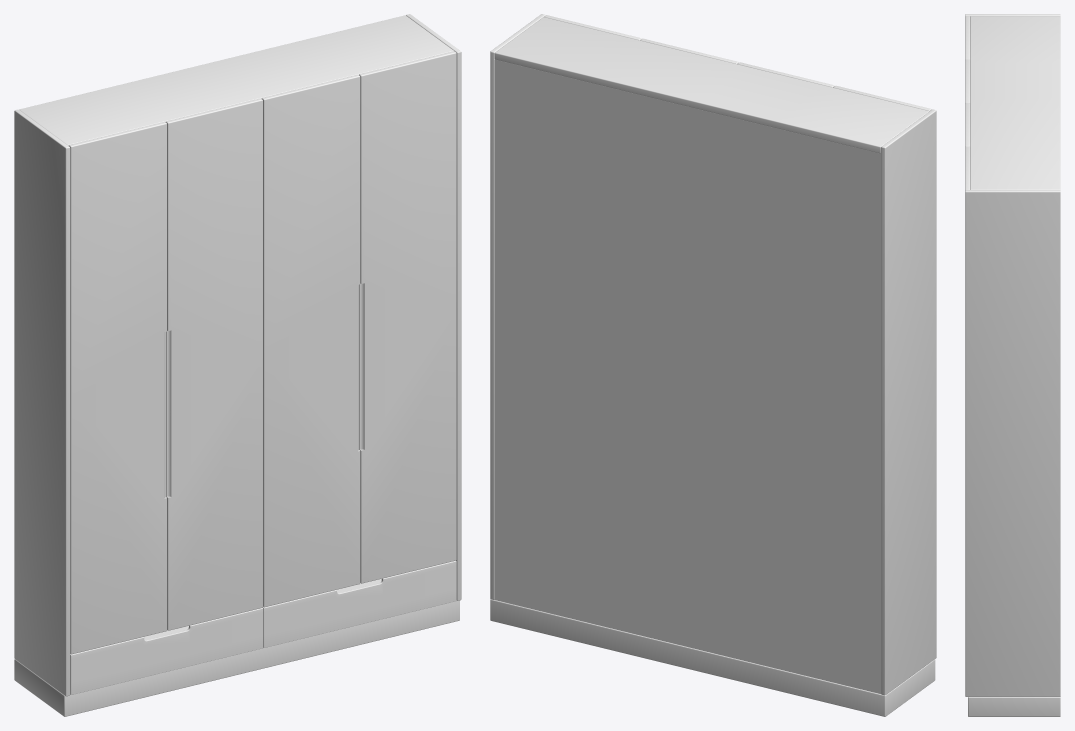
Rendered from uploads_files_4082892_28.fbx.
The picture shows the model from 3 angles, left to right: view 1: azimuth 30°, elevation 25°; view 2: azimuth 150°, elevation 25°; view 3: azimuth 270°, elevation 25°; orthographic projection. The views are drawn at different scales.
Visible parts, largest first — view 1: Object022, Object014, bottom door, bottom; view 2: Object014, bottom, Object022; view 3: Object014, bottom, Object022.
Boxes of the visible parts, x1,y1,x2,y2 form: Object022: (68, 51, 456, 654); Object014: (14, 14, 461, 696); bottom door: (70, 560, 456, 694); bottom: (14, 578, 459, 716); Object014: (490, 14, 936, 695); bottom: (490, 599, 935, 716); Object022: (544, 15, 931, 111); Object014: (965, 14, 1060, 696); bottom: (968, 697, 1060, 716); Object022: (965, 16, 970, 189).
Bounding box in the file's own units: 86.4 × 119 × 19.59.
1 material, 1 textured.
